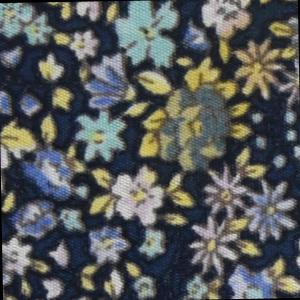Stain: (128, 1, 300, 179)
